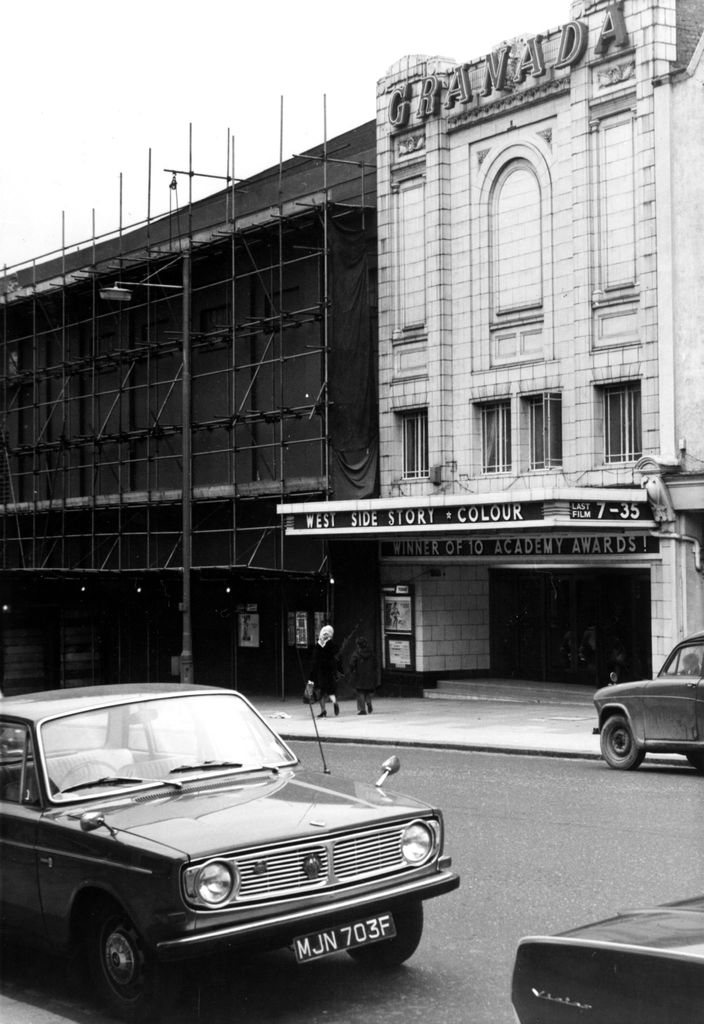Car: (0, 685, 455, 1023), (507, 893, 703, 1023), (590, 632, 703, 771)
